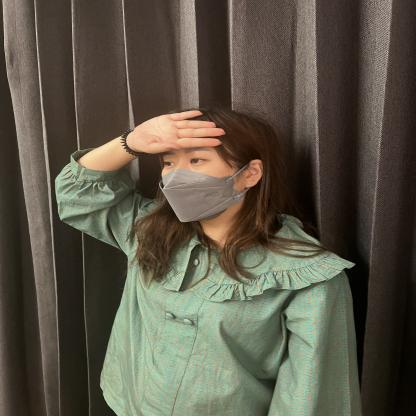Sick: (99, 81, 244, 187)
